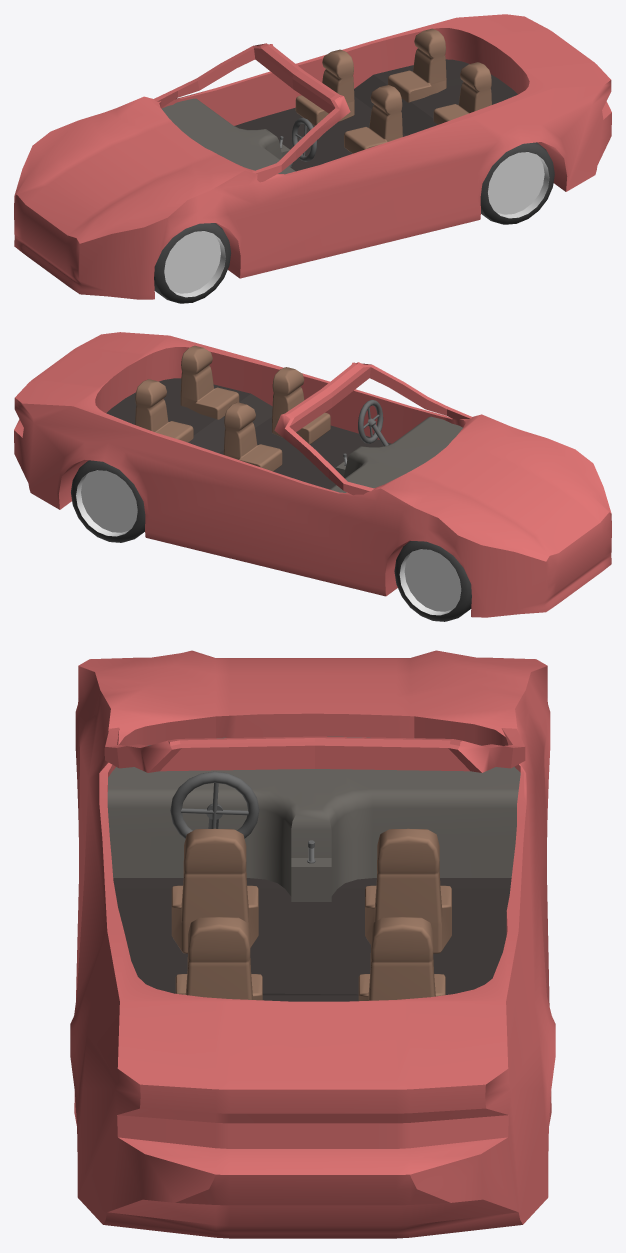
The model's file is Parked_car.fbx.
3 renders of one model, top to bottom at view 1: azimuth 30°, elevation 25°; view 2: azimuth 150°, elevation 25°; view 3: azimuth 270°, elevation 25°, orthographic. The views are drawn at different scales.
Parts seen in each view (by area): view 1: car2; view 2: car2; view 3: car2.
Boxes of the visible parts, box(x1,y1,x2,y2) form: car2: box(14, 14, 611, 303); car2: box(14, 332, 611, 621); car2: box(70, 650, 555, 1238).
Size of the model in its own units: 18.39 by 4.98 by 7.17.
